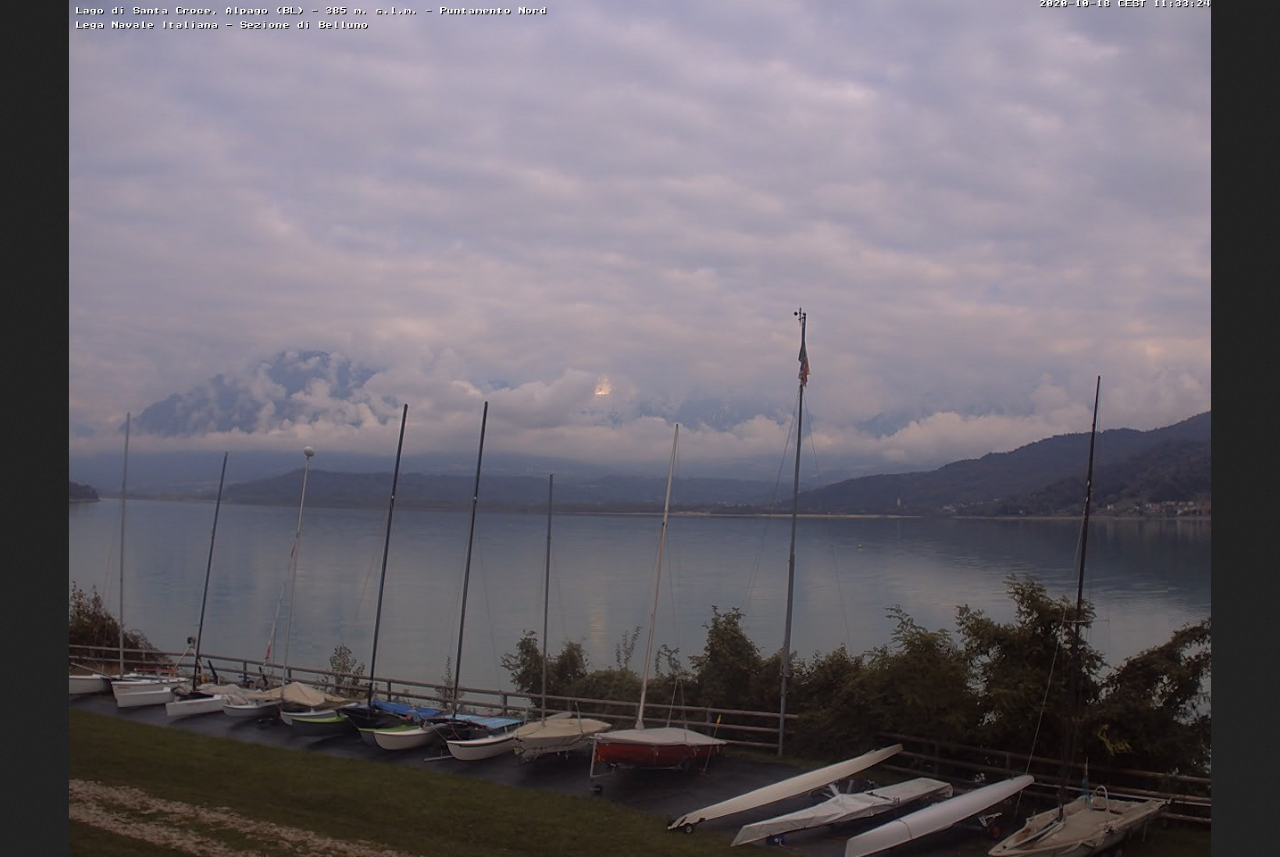no: (798, 332, 813, 391)
